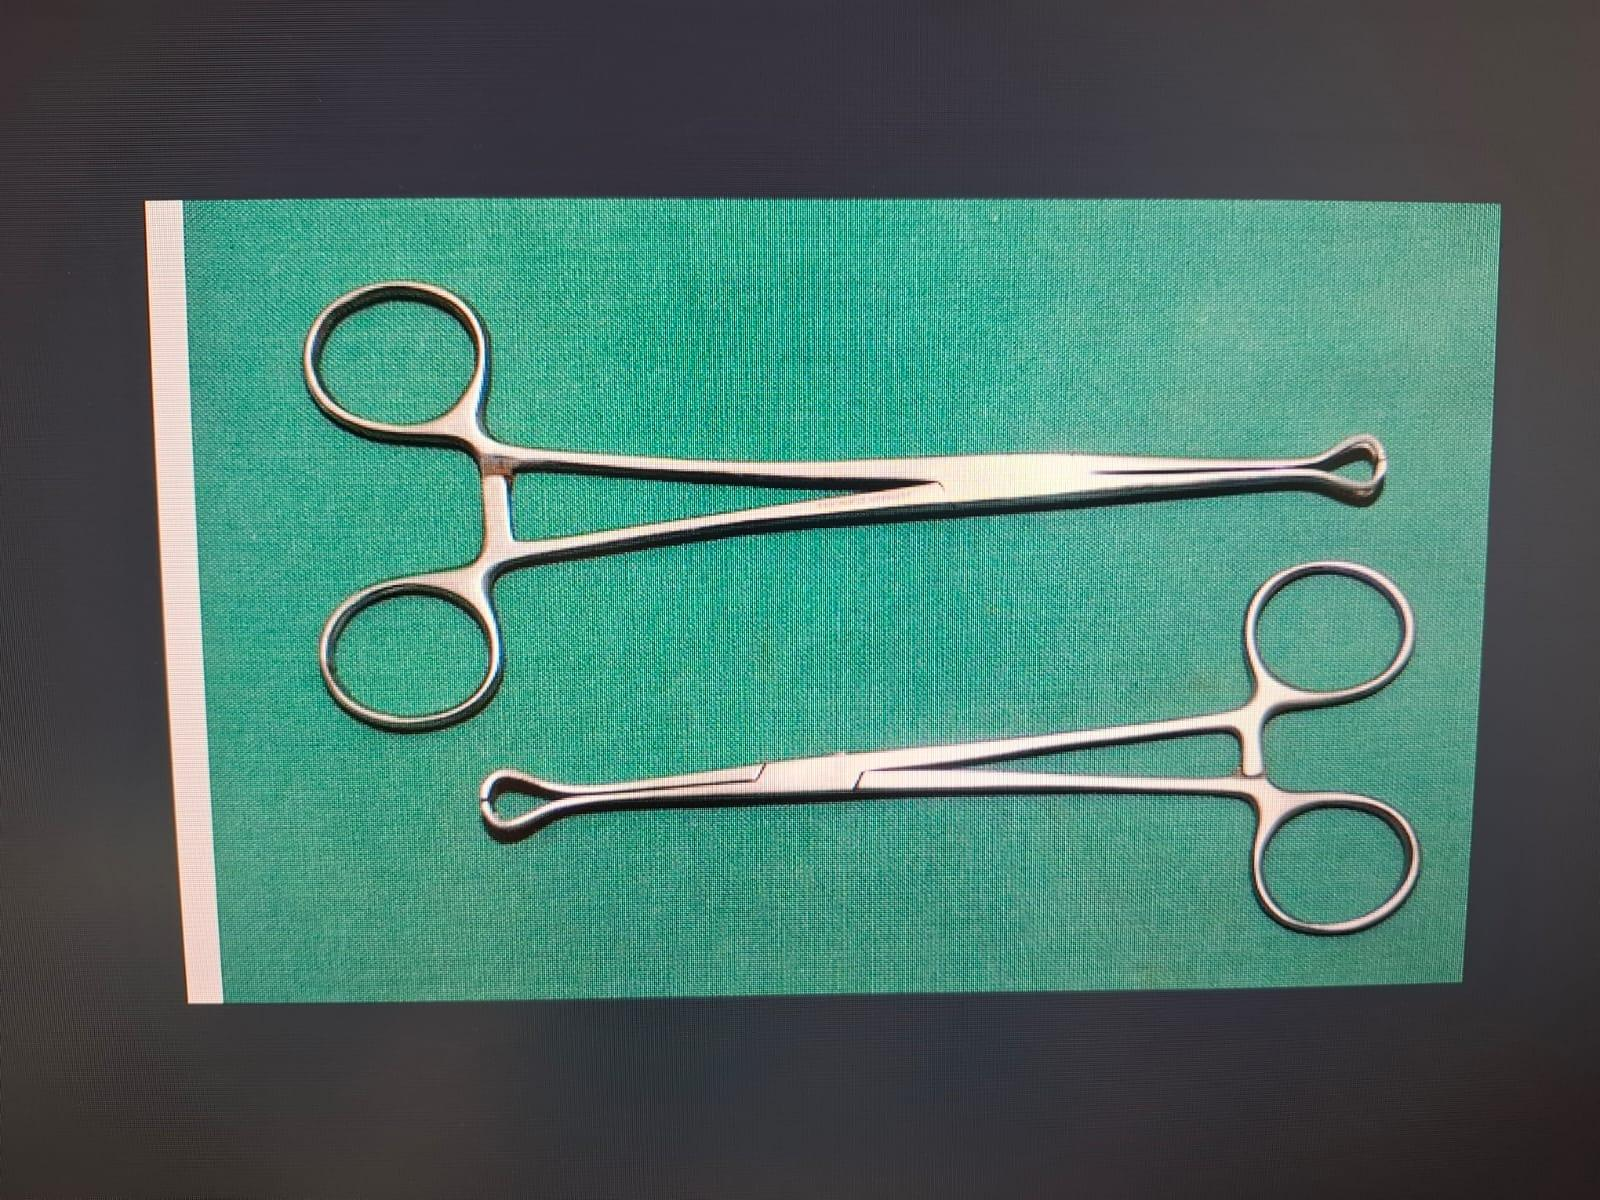Babcock Forceps: (282, 270, 1396, 747), (460, 555, 1437, 945)
